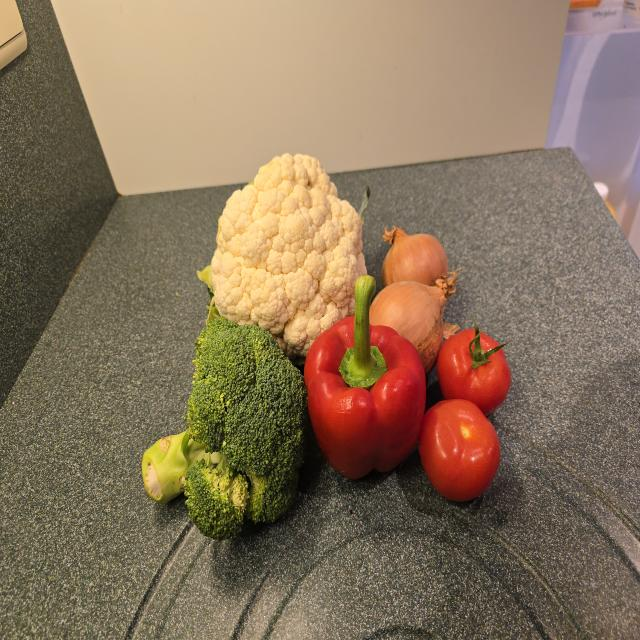Bell Pepper: (304, 274, 426, 479)
Broccoli: (142, 318, 308, 539)
Cauliflower: (211, 153, 366, 364)
Onion: (369, 279, 455, 372), (381, 228, 448, 287)
Tomato: (419, 399, 500, 501), (437, 323, 511, 415)
